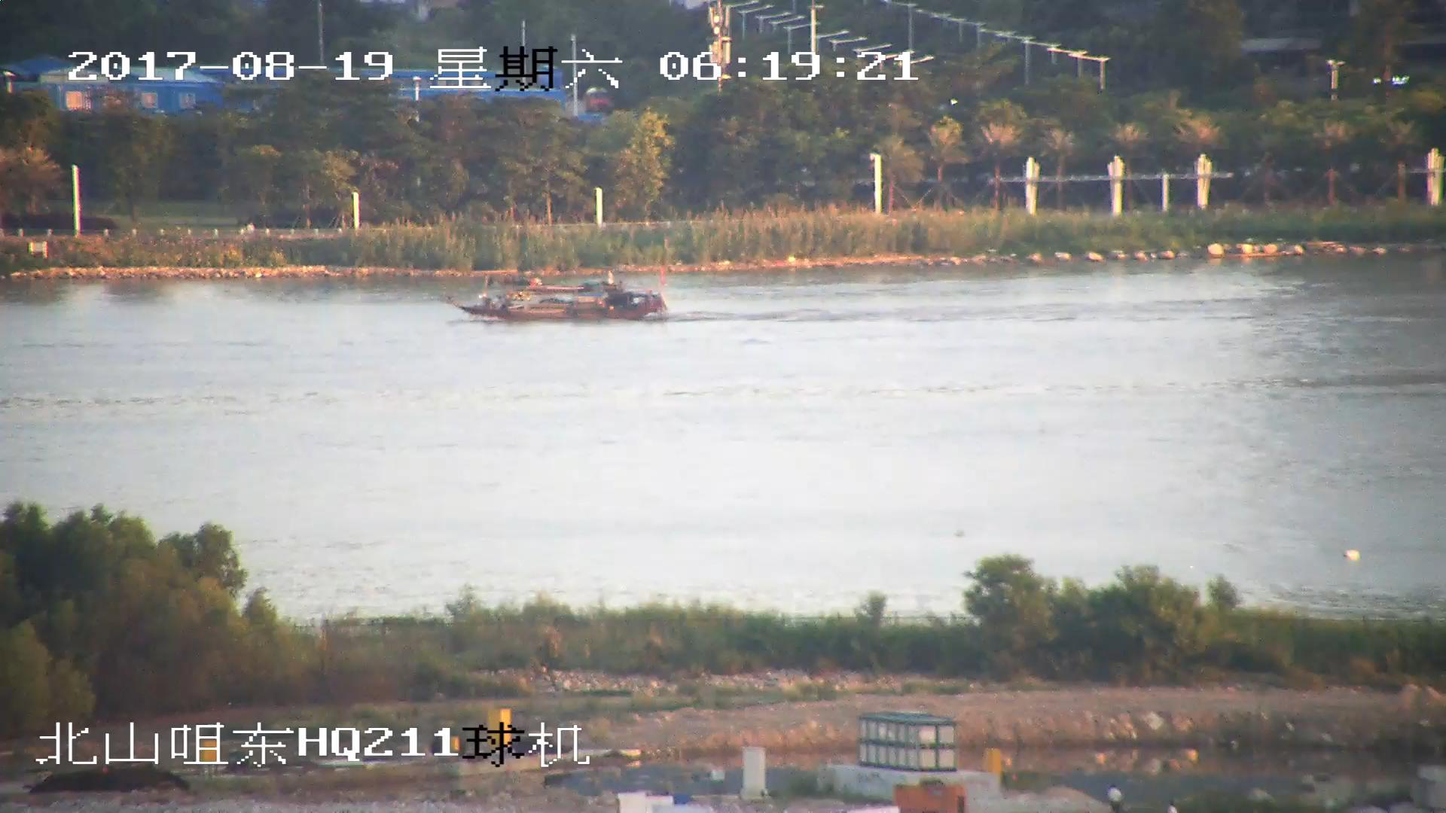fishing boat: (450, 272, 668, 323)
